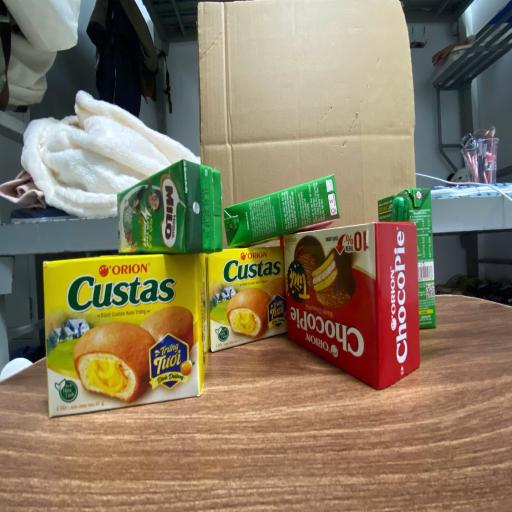chocopie: (284, 221, 420, 387)
custas: (41, 254, 211, 420), (207, 246, 287, 352)
milo: (119, 157, 222, 253), (226, 174, 342, 249), (378, 188, 437, 330)
